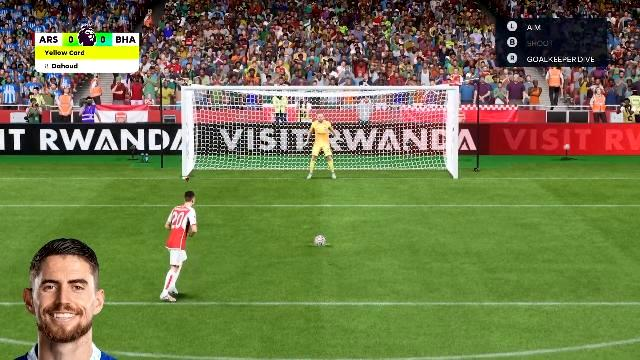bottom-left: (192, 142, 280, 178)
bottom-right: (367, 142, 447, 178)
center-down: (284, 142, 364, 180)
center-up: (284, 96, 364, 140)
circle: (310, 242, 332, 246)
football: (312, 235, 328, 245)
goalkeeper: (290, 117, 344, 180)
player: (161, 187, 199, 301)
top-left: (192, 94, 282, 140)
top-right: (366, 94, 449, 140)
